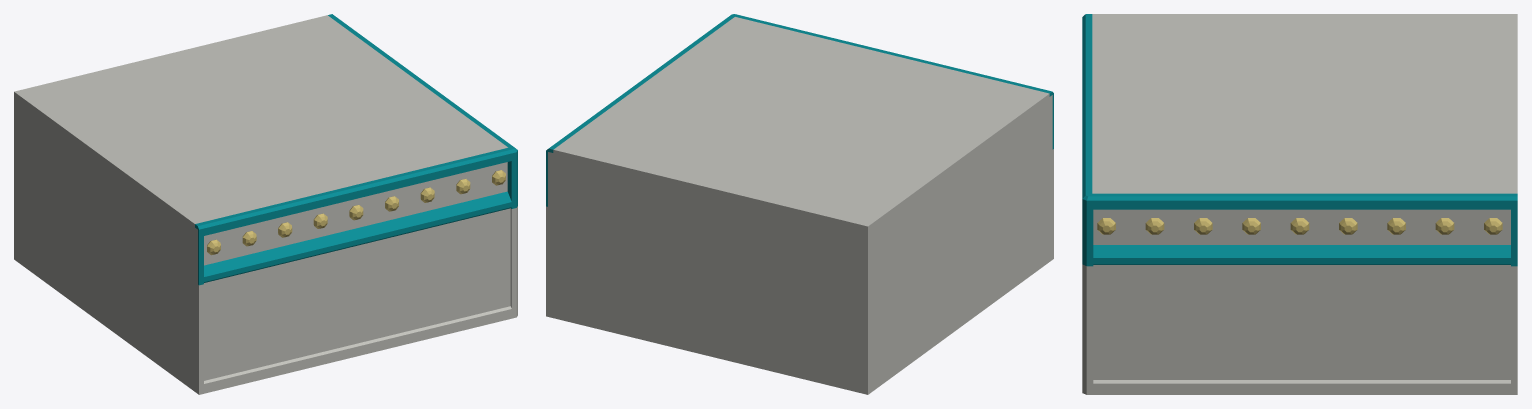
Rendered from ugol.glb.
3 views of the same model, side by side, from view 1: azimuth 30°, elevation 25°; view 2: azimuth 150°, elevation 25°; view 3: azimuth 270°, elevation 25° (orthographic). The views are drawn at different scales.
Parts seen in each view (by area): view 1: stage-deck; view 2: stage-deck; view 3: stage-deck.
Boxes of the visible parts, x1,y1,x2,y2 form: stage-deck: (14,14,517,394); stage-deck: (546,14,1053,394); stage-deck: (1082,14,1517,394).
Bounding box in the file's own units: 2 × 1 × 2.
